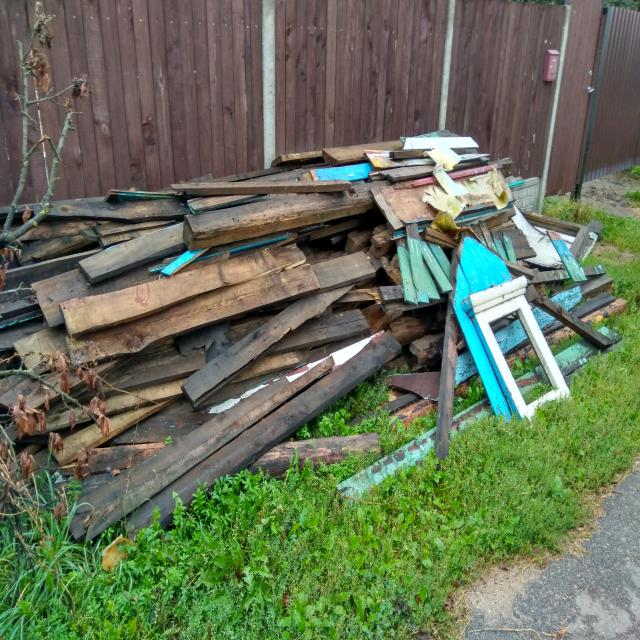entulho: (189, 285, 432, 505), (2, 368, 206, 558), (376, 318, 616, 451), (1, 197, 199, 296), (360, 126, 516, 221), (373, 222, 475, 321), (187, 194, 337, 252), (94, 340, 208, 394), (530, 292, 618, 349), (301, 250, 380, 296), (541, 219, 593, 284), (80, 194, 190, 223), (184, 178, 340, 198), (476, 250, 544, 284), (182, 192, 272, 214), (560, 272, 616, 304), (408, 137, 480, 158), (318, 144, 378, 167), (381, 293, 434, 319), (230, 163, 304, 180), (105, 189, 183, 203), (360, 140, 408, 154), (412, 128, 468, 139), (581, 264, 607, 279)
